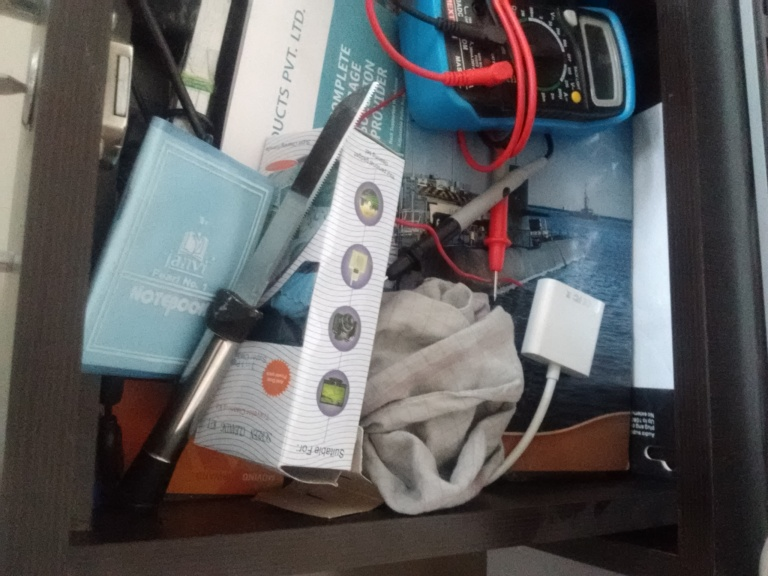knife: (118, 78, 381, 518)
